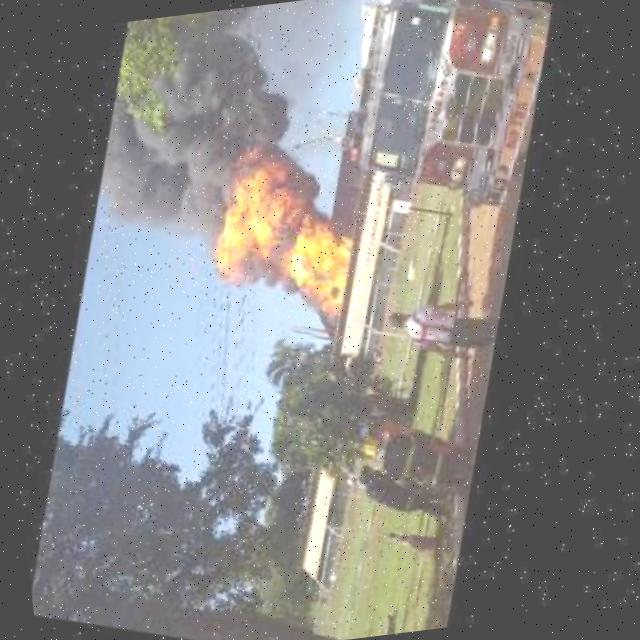fire: (170, 128, 381, 343)
